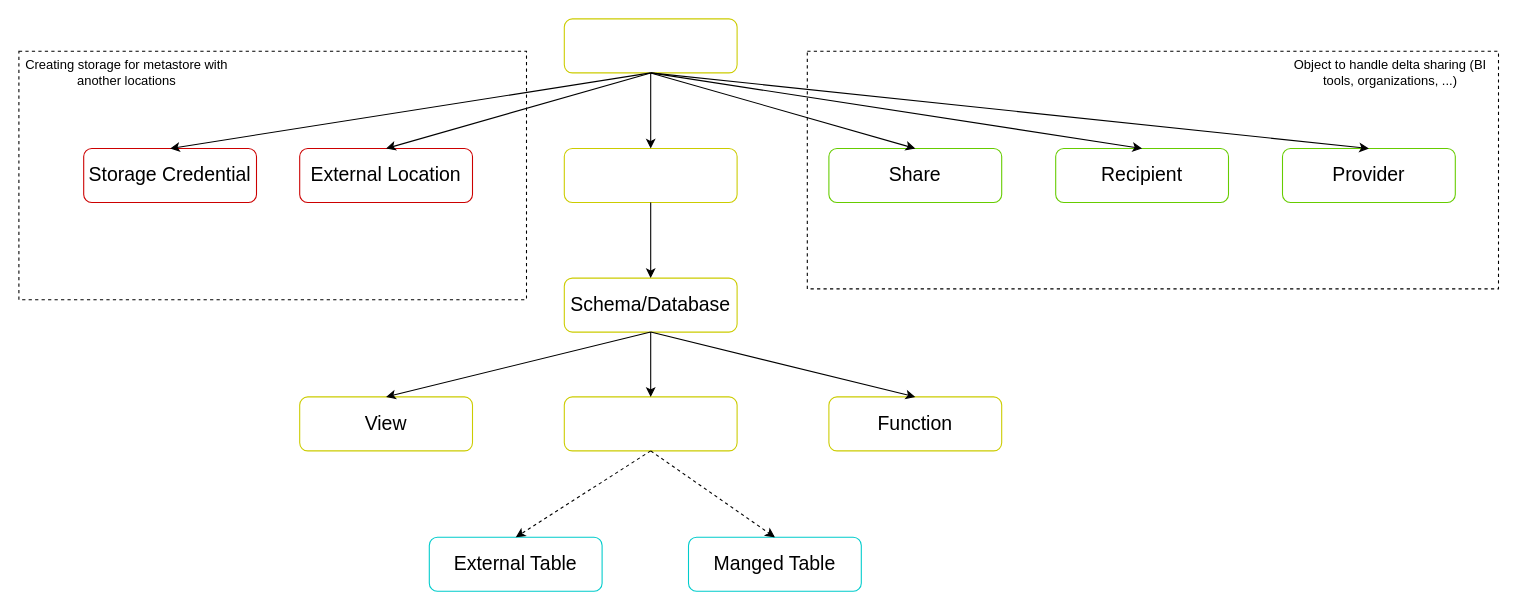
Some shapes in this 1517 by 610 pixel diagram are drawn without their labels. The shapes that lost their labels are listed below. From the top down, each one's centre as x and y in pixels, then its label:
At (650,45): "Metastore".
At (650,174): "Catalog".
At (650,423): "Table".
